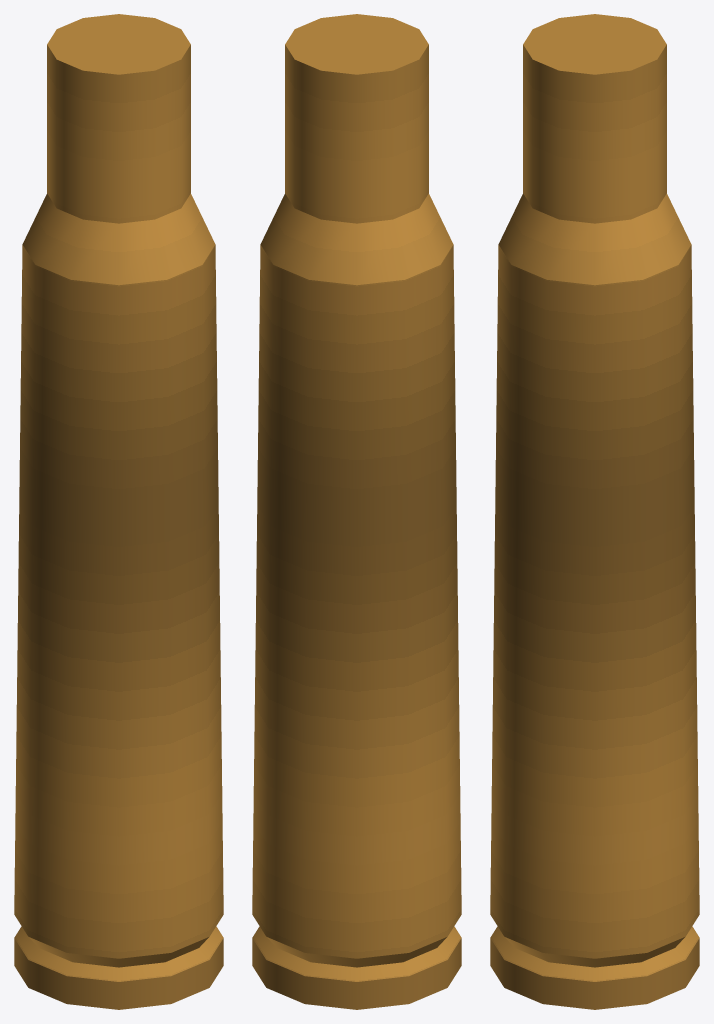
Rendered from large.gltf.
3 renders of one model, left to right at view 1: azimuth 30°, elevation 25°; view 2: azimuth 150°, elevation 25°; view 3: azimuth 270°, elevation 25°, orthographic.
Visible parts, largest first — view 1: large; view 2: large; view 3: large.
Boxes of the visible parts, bbox=[...] form: large: bbox=[14, 14, 223, 1009]; large: bbox=[252, 14, 461, 1009]; large: bbox=[490, 14, 699, 1009].
Size of the model in its own units: 0.0204 by 0.099 by 0.0204.
Materials: 1 (1 with a texture image).
